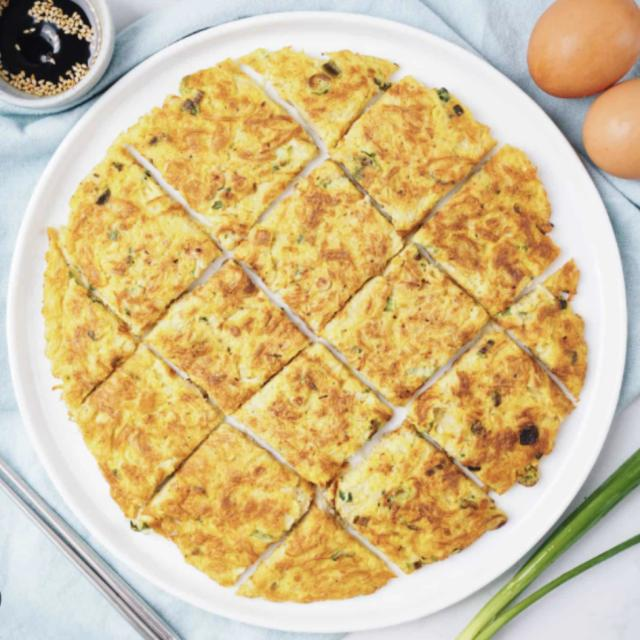trung chien: (63, 59, 316, 331), (61, 139, 217, 334), (142, 425, 314, 585), (410, 331, 573, 494), (240, 163, 400, 329), (321, 247, 487, 406), (332, 77, 494, 238), (336, 426, 506, 572), (78, 345, 221, 518), (419, 146, 559, 312), (151, 264, 308, 410), (232, 350, 386, 485), (42, 228, 137, 410), (237, 504, 396, 602), (242, 49, 395, 144), (495, 262, 587, 396)
